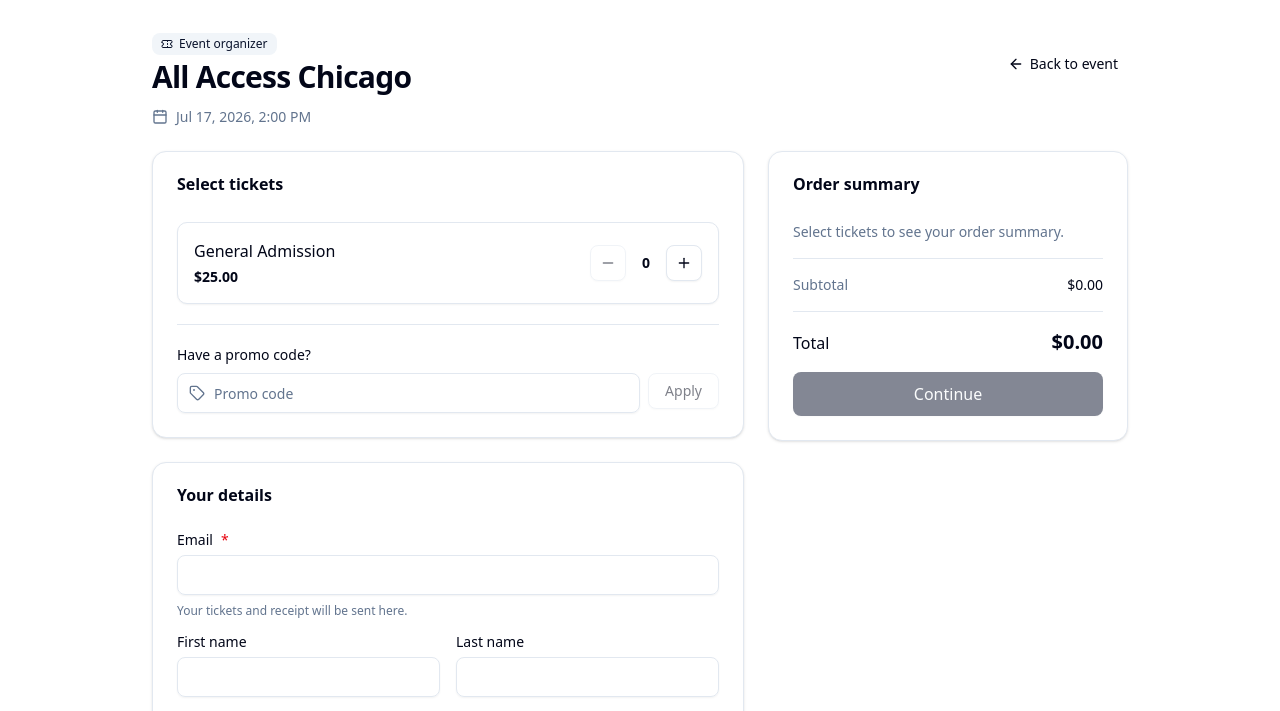
Test: CheckoutFlow buyer validation › directs buyers to the missing required multiselect question
The image size is (1280, 711).
Expected: the text "General Admission" is shown, [194,239,335,263]
Click the button named "Increase General Admission quantity" at (684, 263), box [666,245,702,281]
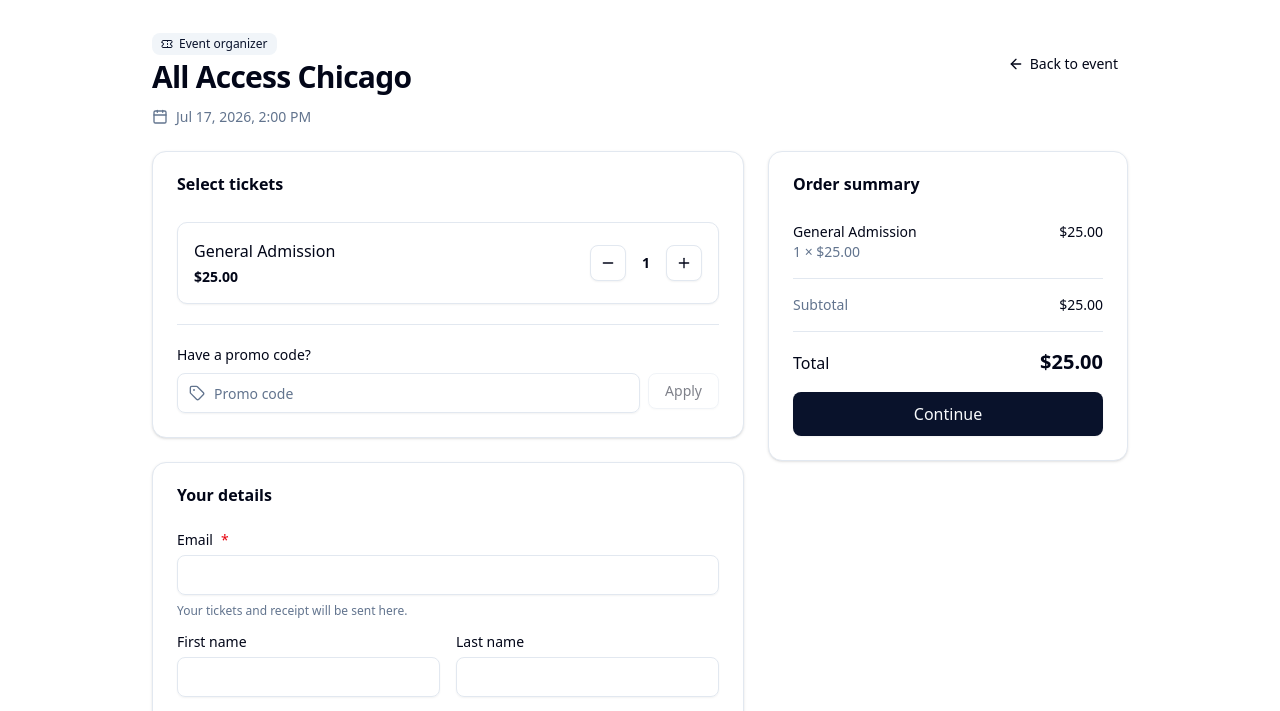
Type "buyer@example.com" into the field labelled "Email *" at (448, 575), box [177,555,719,595]
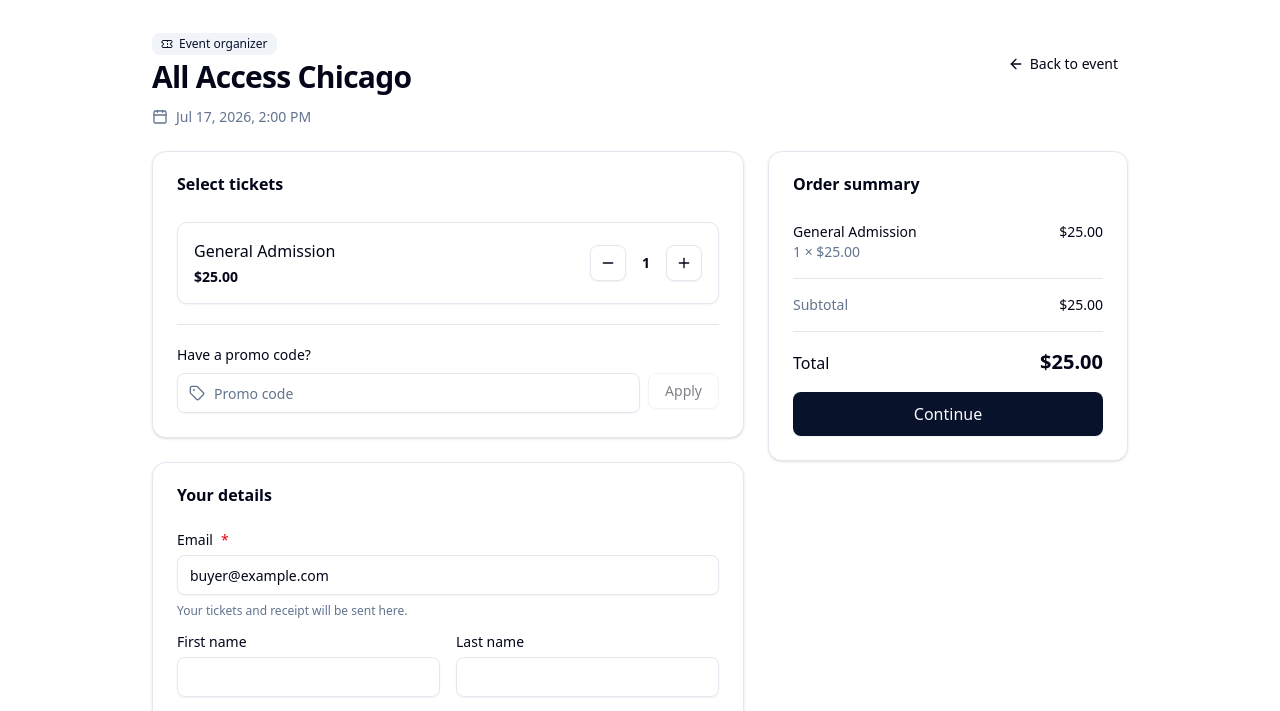
Click the button "Continue" at (948, 414), box [793,392,1103,436]
(page scrolled)
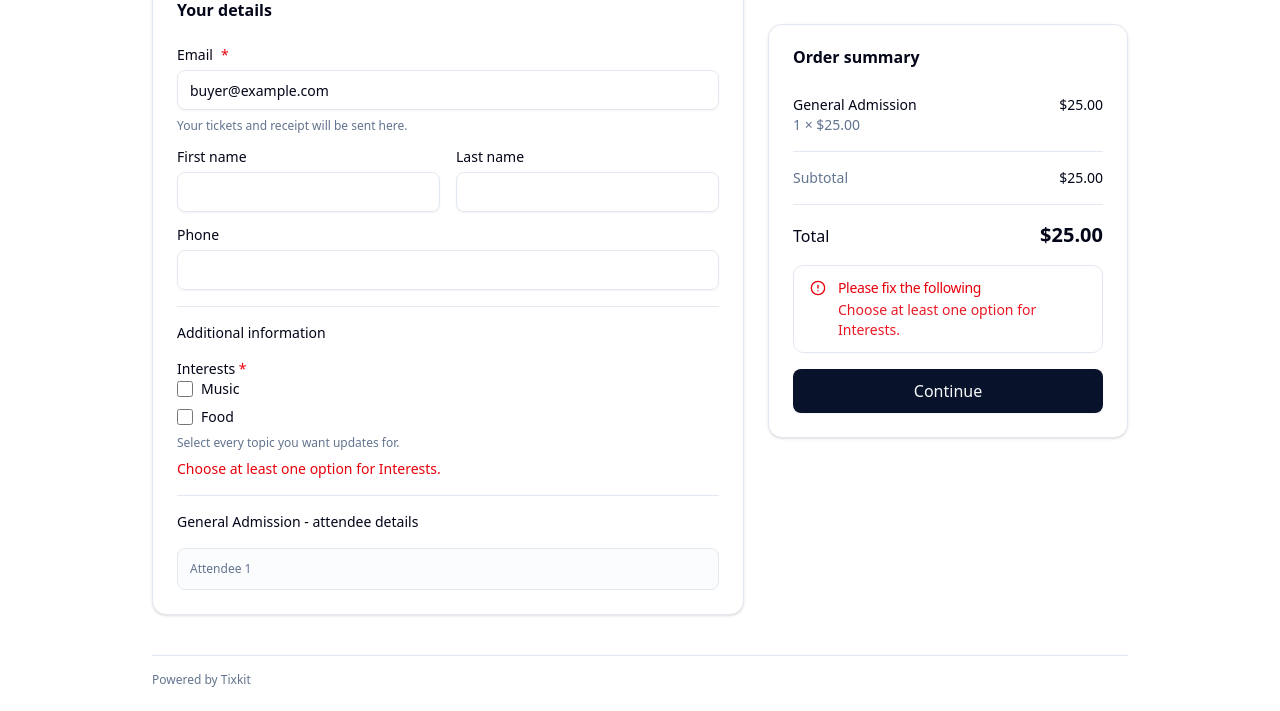
Result: the text "Choose at least one option for Interests." is shown 2 times at [177,459,441,478]; [838,300,1036,339]
